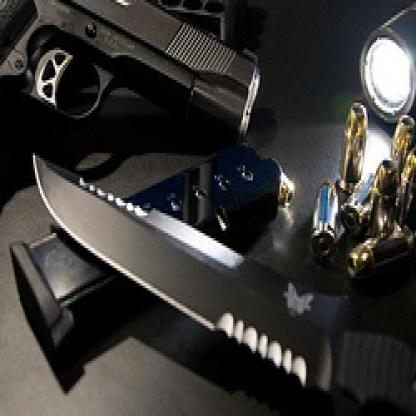gun: (0, 0, 265, 233)
